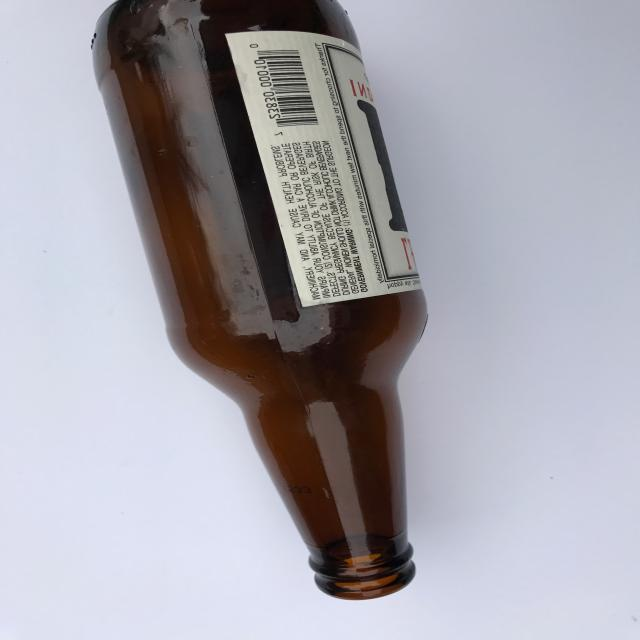glass: (72, 19, 475, 594)
